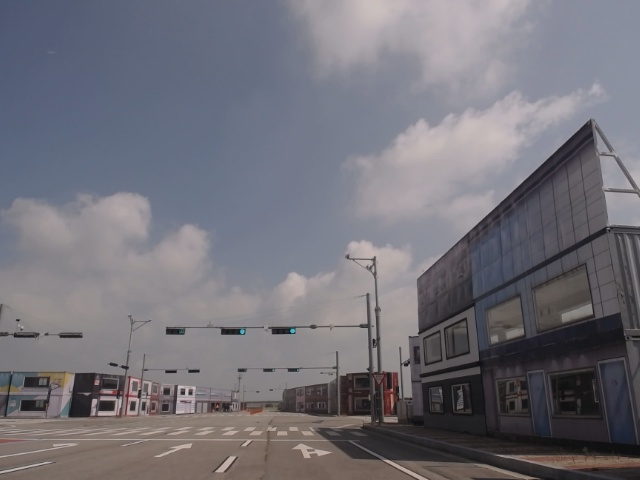straight_green_4: (272, 326, 297, 335), (223, 327, 246, 336)
